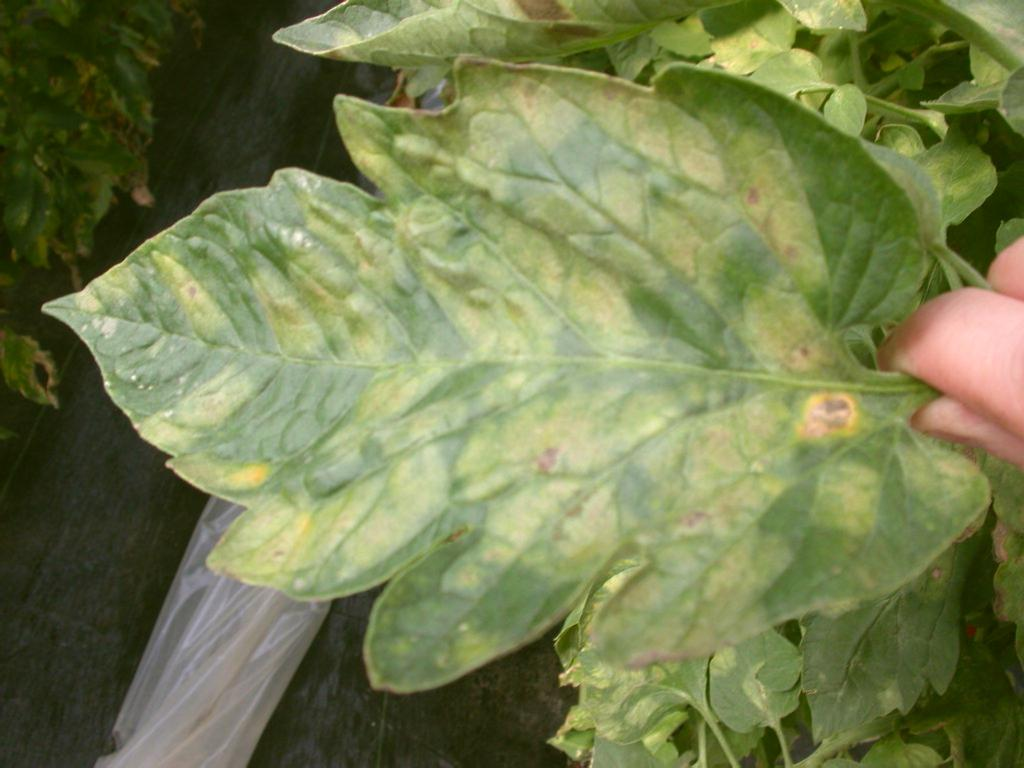Tomato mold leaf: (26, 44, 906, 697)
